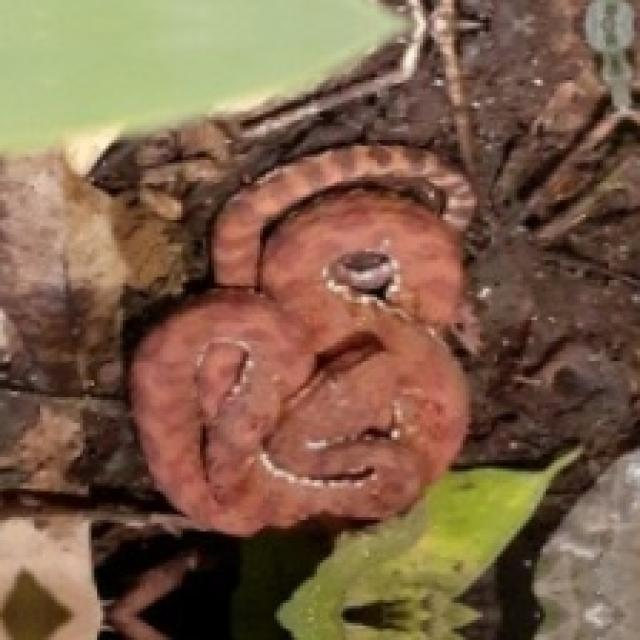philippine pitviper: (131, 146, 471, 531)
